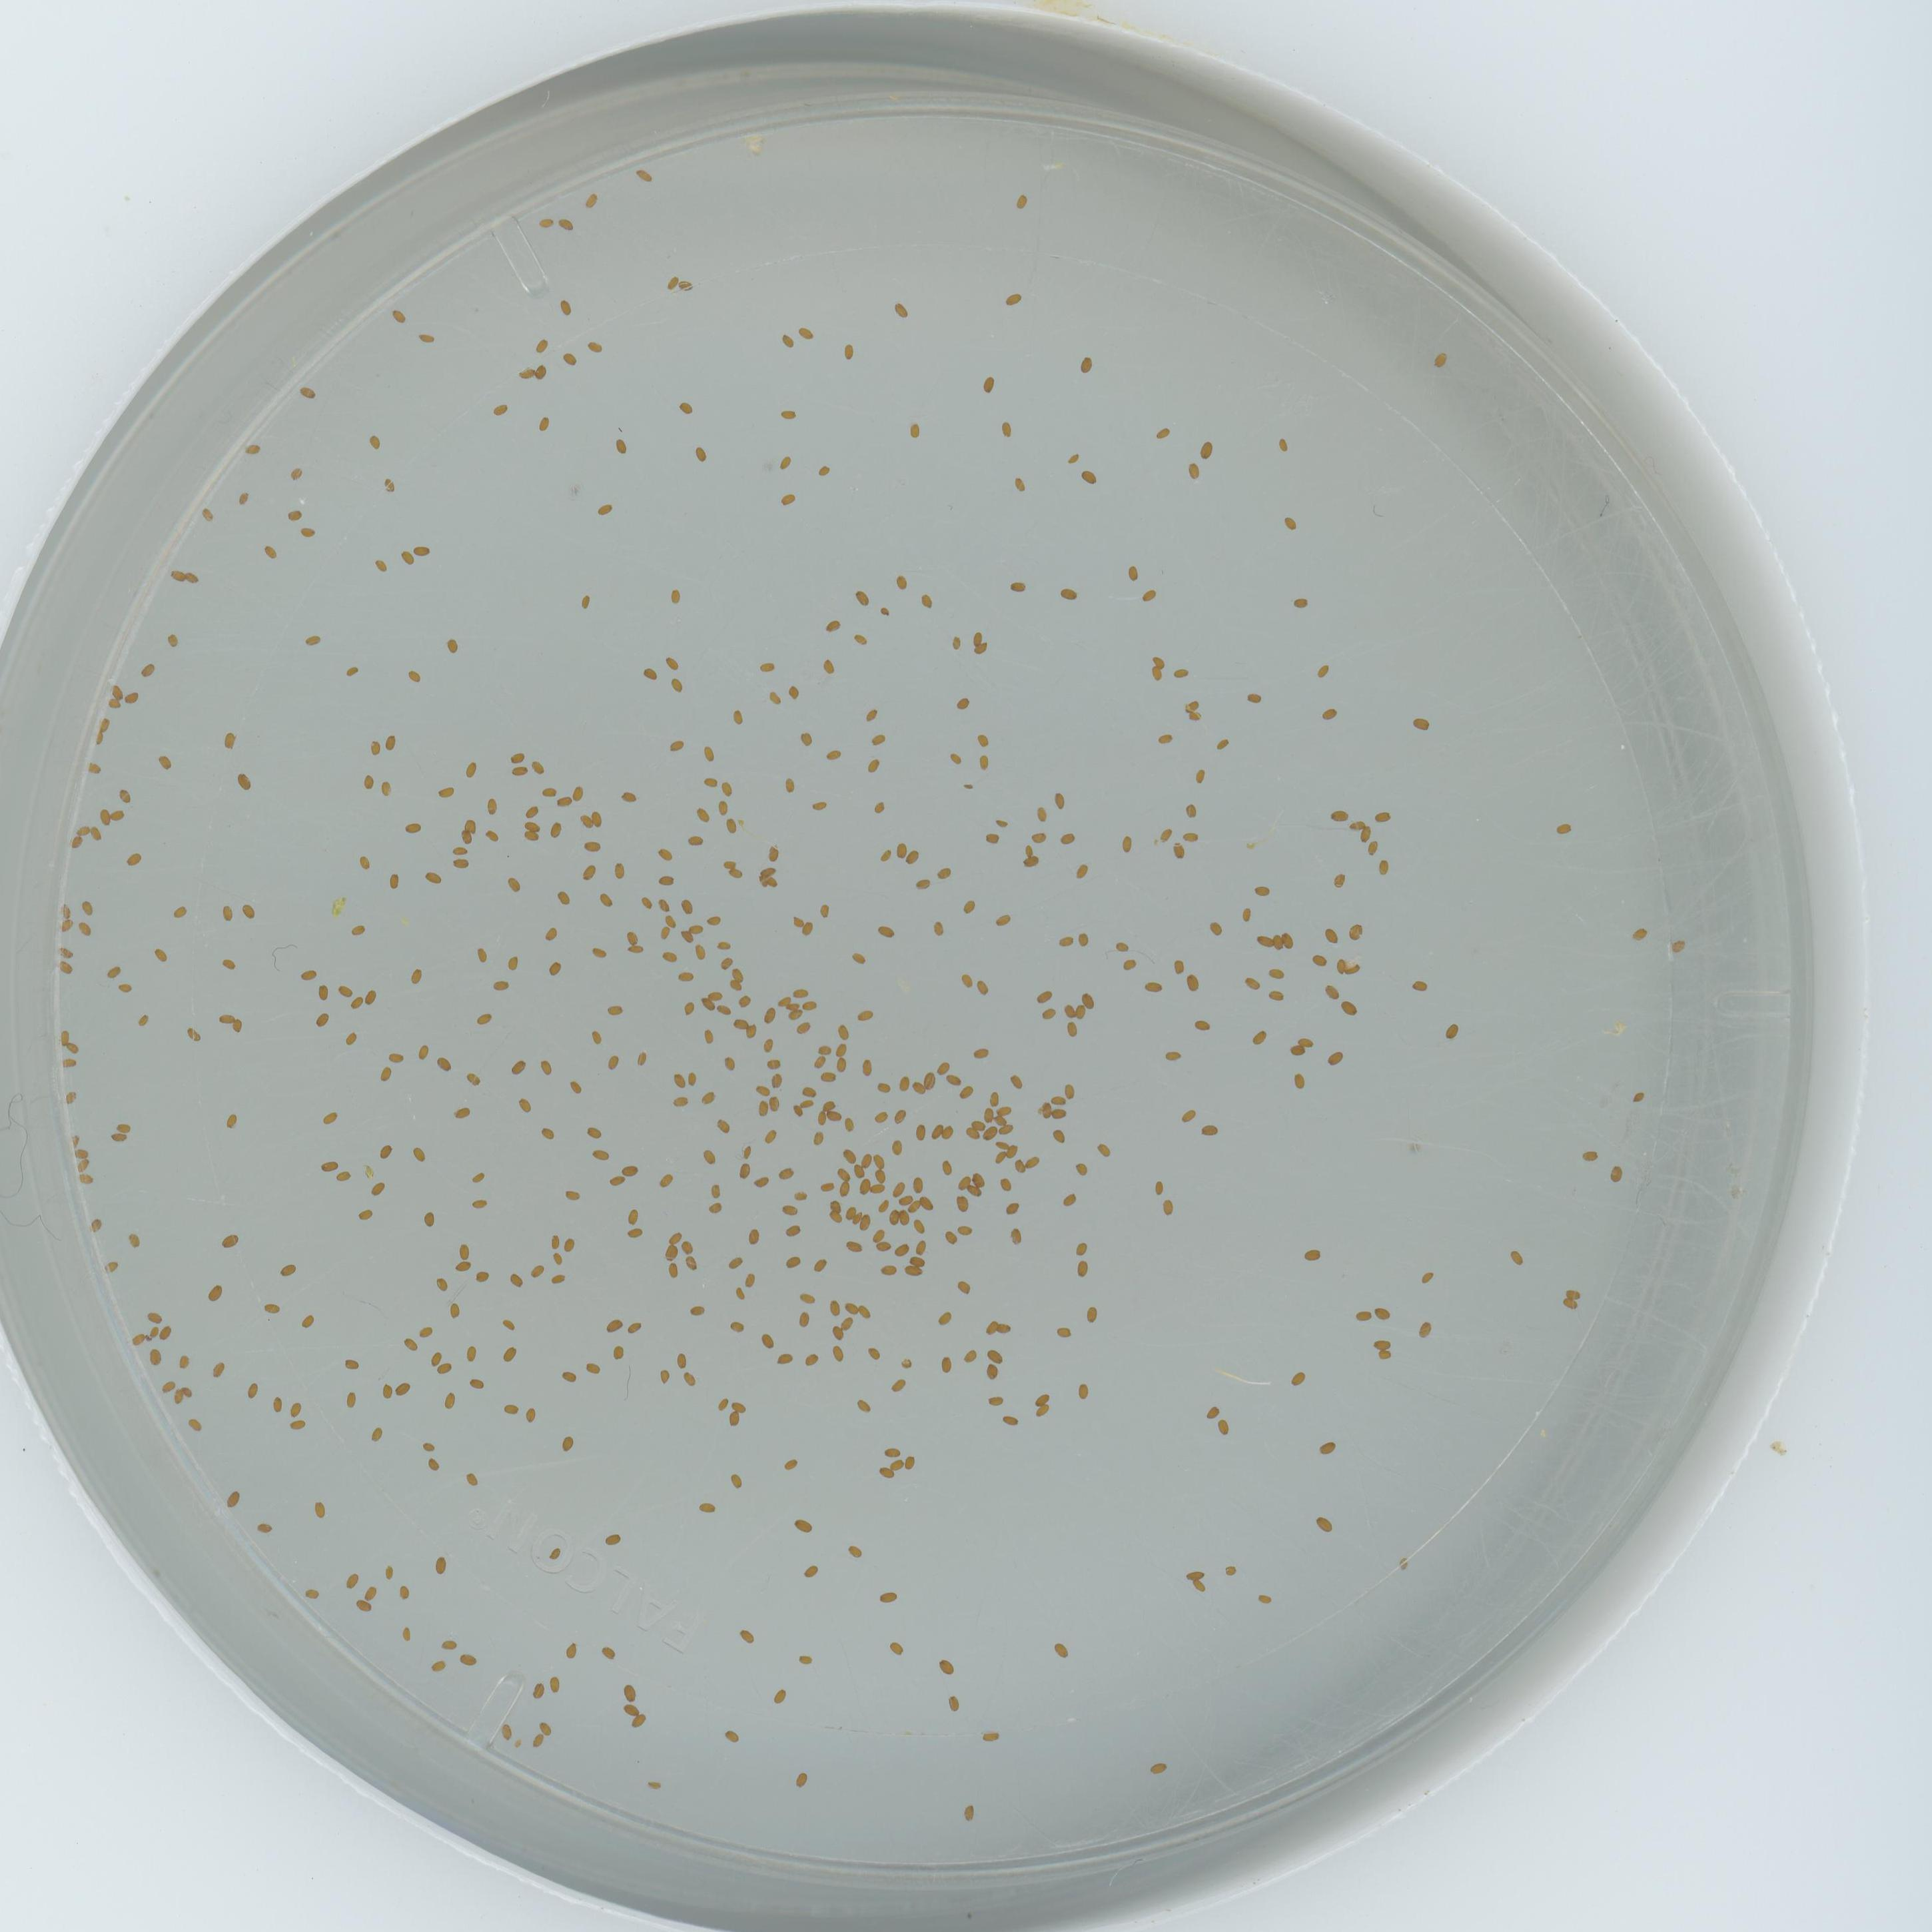seed: (1056, 584, 1081, 605), (888, 1136, 908, 1161), (234, 770, 253, 791), (1159, 1198, 1178, 1219), (957, 1348, 980, 1366), (1012, 191, 1031, 211), (1054, 1322, 1074, 1341), (1145, 978, 1166, 996), (481, 798, 501, 816), (501, 1345, 520, 1362), (435, 1053, 453, 1072), (662, 1244, 679, 1263), (605, 1315, 625, 1332), (890, 1180, 909, 1198), (262, 1299, 281, 1316), (936, 1658, 955, 1675), (826, 1299, 844, 1318), (955, 1279, 973, 1299), (952, 1194, 970, 1214), (1320, 927, 1339, 945), (1051, 1640, 1069, 1660), (1325, 1047, 1345, 1065), (1171, 955, 1189, 975), (1394, 1555, 1414, 1573), (1346, 924, 1366, 941), (504, 952, 520, 973), (858, 1056, 874, 1077), (1180, 828, 1201, 844), (1346, 817, 1368, 833), (1332, 955, 1348, 977), (906, 421, 922, 442), (678, 897, 695, 915), (934, 865, 952, 883), (437, 784, 455, 801), (656, 895, 674, 913), (724, 817, 741, 835), (538, 212, 556, 230), (524, 803, 541, 821), (556, 890, 573, 908), (395, 1378, 412, 1396), (892, 1106, 909, 1123), (492, 975, 510, 993), (458, 1651, 476, 1668), (375, 1141, 393, 1159), (621, 1159, 639, 1177), (219, 1230, 237, 1247), (145, 1346, 163, 1364), (830, 1345, 847, 1362), (741, 1270, 759, 1288), (341, 1391, 359, 1408), (547, 959, 564, 977), (715, 1116, 732, 1134), (938, 1355, 955, 1373), (699, 1497, 717, 1514), (747, 1226, 764, 1244), (432, 1557, 449, 1575), (368, 1178, 386, 1196), (621, 1684, 639, 1702), (826, 1196, 844, 1214), (145, 1306, 163, 1323), (559, 1435, 577, 1453), (911, 1125, 929, 1143), (722, 1053, 740, 1070), (957, 1221, 975, 1238), (1072, 863, 1090, 881), (1169, 842, 1187, 860), (1030, 828, 1047, 846), (1184, 462, 1201, 479), (980, 375, 998, 393), (1196, 441, 1214, 458), (1279, 931, 1297, 948), (1412, 713, 1430, 731), (1116, 837, 1134, 855), (1003, 288, 1021, 306), (1318, 1438, 1336, 1456), (1339, 998, 1357, 1016), (1302, 1244, 1320, 1261), (1315, 1514, 1332, 1532), (985, 1345, 1003, 1362), (964, 1123, 982, 1141), (955, 1175, 973, 1192), (1670, 938, 1688, 955), (1150, 1759, 1168, 1776), (897, 1353, 915, 1371), (464, 1070, 481, 1088), (582, 863, 598, 883), (545, 823, 564, 839), (639, 895, 658, 911), (582, 839, 602, 855), (219, 955, 239, 971), (416, 1042, 432, 1062), (462, 1345, 478, 1364), (893, 1240, 913, 1256), (794, 1516, 814, 1532), (278, 1260, 297, 1276), (810, 1053, 830, 1069), (1330, 807, 1350, 823), (1079, 467, 1099, 483), (1322, 984, 1341, 1000), (1063, 1019, 1079, 1039), (1184, 973, 1200, 993), (1417, 1320, 1433, 1339), (1330, 874, 1350, 890), (980, 1727, 1000, 1743), (1063, 451, 1083, 467), (271, 1394, 285, 1415), (138, 662, 156, 678), (623, 929, 640, 945), (658, 874, 676, 890), (867, 759, 885, 775), (529, 759, 547, 775), (382, 734, 400, 750), (366, 433, 384, 449), (893, 575, 911, 591), (389, 306, 407, 322), (218, 904, 235, 920), (855, 591, 872, 607), (702, 775, 720, 791), (706, 911, 724, 927), (695, 807, 713, 823), (412, 541, 430, 557), (124, 851, 142, 867), (418, 329, 435, 345), (824, 617, 842, 633), (511, 764, 529, 780), (219, 732, 237, 748), (557, 299, 575, 315), (237, 902, 255, 918), (701, 747, 718, 763), (170, 904, 188, 920), (612, 437, 628, 455), (780, 777, 798, 793), (557, 216, 575, 232), (872, 798, 890, 814), (610, 863, 628, 879), (656, 846, 674, 862), (444, 637, 460, 655), (543, 925, 561, 941), (842, 343, 860, 359), (915, 876, 932, 892), (356, 855, 372, 872), (287, 506, 304, 522), (78, 899, 94, 916), (163, 632, 180, 648), (798, 324, 816, 340), (817, 901, 833, 918), (359, 775, 377, 791), (598, 893, 616, 909), (718, 782, 736, 798), (812, 798, 830, 814), (954, 695, 971, 711), (853, 632, 870, 648), (663, 915, 681, 931), (798, 731, 816, 747), (718, 955, 736, 971), (96, 809, 111, 826), (458, 830, 474, 847), (582, 193, 600, 209), (313, 1010, 331, 1026), (315, 984, 333, 1000), (587, 1028, 605, 1044), (529, 1261, 547, 1277), (881, 1261, 899, 1277), (803, 1562, 821, 1578), (761, 1005, 778, 1021), (837, 1023, 855, 1039), (320, 1155, 338, 1171), (945, 1695, 961, 1713), (672, 1090, 690, 1106), (502, 1401, 520, 1417), (548, 1270, 566, 1286), (205, 1284, 223, 1300), (386, 1046, 403, 1062), (786, 1253, 803, 1269), (584, 1359, 602, 1375), (288, 1417, 306, 1433), (888, 1638, 906, 1654), (878, 1465, 895, 1481), (846, 1238, 863, 1254), (778, 1164, 796, 1180), (761, 1330, 777, 1348), (354, 1598, 372, 1614), (936, 1309, 954, 1325), (874, 1198, 892, 1214), (510, 1060, 527, 1076), (605, 1530, 623, 1546), (311, 1500, 327, 1518), (209, 1361, 226, 1376), (794, 1769, 810, 1787), (856, 1396, 874, 1412), (761, 1035, 777, 1053), (803, 1350, 821, 1366), (847, 1541, 863, 1559), (626, 1224, 644, 1240), (322, 1108, 340, 1123), (922, 1072, 938, 1090), (658, 1171, 676, 1187), (801, 1081, 819, 1097), (375, 1065, 393, 1081), (786, 1223, 803, 1238), (699, 1090, 717, 1106), (379, 1564, 396, 1580), (441, 1392, 458, 1408), (777, 1348, 794, 1364), (287, 1401, 304, 1417), (793, 1185, 810, 1201), (563, 1644, 580, 1660), (881, 1589, 899, 1605), (754, 1081, 771, 1097), (455, 1242, 472, 1258), (548, 1675, 564, 1693), (913, 1240, 931, 1256), (186, 1415, 202, 1433), (736, 993, 754, 1008), (800, 1288, 817, 1304), (701, 1028, 718, 1044), (531, 1683, 548, 1698), (826, 1108, 844, 1123), (441, 1637, 458, 1652), (858, 1304, 876, 1320), (929, 1122, 945, 1139), (173, 1353, 191, 1369), (828, 1208, 846, 1224), (844, 1299, 862, 1315), (1373, 809, 1391, 824), (1008, 577, 1026, 593), (1311, 948, 1329, 964), (1031, 807, 1049, 823), (1375, 860, 1392, 876), (1049, 793, 1065, 810), (1555, 821, 1573, 837), (1274, 437, 1292, 453), (1076, 356, 1093, 372), (1171, 665, 1189, 681), (1238, 906, 1254, 924), (1152, 425, 1169, 441), (1111, 938, 1129, 954), (1182, 801, 1200, 817), (961, 899, 978, 915), (993, 911, 1010, 927), (1146, 667, 1164, 683), (973, 640, 991, 656), (982, 1364, 1000, 1380), (1074, 1382, 1090, 1399), (1373, 1334, 1391, 1350), (1007, 1074, 1024, 1090), (1083, 1306, 1100, 1322), (1001, 1412, 1019, 1428), (1507, 1249, 1525, 1265), (1267, 966, 1284, 982), (1035, 987, 1053, 1003), (1373, 1304, 1391, 1320), (1072, 1003, 1088, 1021), (1070, 1240, 1088, 1256), (1251, 1026, 1269, 1042), (1093, 1139, 1111, 1155), (1290, 1369, 1306, 1387), (996, 1175, 1014, 1191), (1214, 1419, 1231, 1435), (1074, 1260, 1090, 1277), (1200, 1120, 1217, 1136), (1608, 1164, 1624, 1182), (1290, 1070, 1307, 1086), (1444, 1021, 1461, 1037), (1162, 1046, 1180, 1062), (1060, 1189, 1077, 1205), (1060, 1001, 1076, 1019), (1431, 352, 1449, 368), (1008, 1228, 1024, 1246), (1012, 478, 1030, 494), (644, 1778, 662, 1794), (497, 1725, 515, 1741), (55, 918, 73, 934), (69, 835, 87, 851), (87, 761, 104, 777), (106, 685, 124, 701), (770, 1070, 784, 1090), (886, 1208, 901, 1228), (904, 1265, 924, 1279), (1253, 932, 1272, 947), (1039, 1100, 1053, 1120), (506, 878, 522, 893), (851, 948, 867, 964), (570, 786, 586, 801), (124, 688, 140, 704), (492, 400, 508, 416), (872, 731, 888, 747), (299, 524, 315, 540), (663, 655, 679, 671), (262, 543, 278, 559), (577, 594, 593, 610), (948, 635, 964, 651), (405, 821, 421, 837), (304, 632, 320, 648), (768, 690, 784, 706), (669, 738, 685, 754), (536, 414, 552, 430), (715, 801, 731, 817), (931, 920, 947, 936), (534, 364, 550, 380), (364, 740, 380, 755), (662, 948, 678, 964), (425, 870, 441, 886), (398, 550, 414, 566), (170, 568, 186, 584), (667, 589, 683, 605), (386, 874, 402, 890), (541, 784, 557, 800), (510, 748, 525, 764), (156, 754, 172, 770), (379, 780, 395, 796), (918, 591, 934, 607), (879, 922, 895, 938), (893, 303, 909, 318), (76, 920, 92, 936), (694, 446, 709, 462), (474, 947, 490, 962), (586, 338, 602, 354), (780, 333, 796, 349), (671, 676, 686, 692), (761, 658, 777, 674), (299, 382, 315, 398), (817, 462, 833, 478), (821, 660, 837, 676), (244, 441, 260, 456), (577, 814, 593, 830), (589, 812, 605, 828), (906, 851, 922, 867), (462, 817, 478, 833), (453, 856, 469, 872), (152, 947, 168, 962), (729, 867, 745, 883), (947, 1070, 962, 1086), (345, 1573, 361, 1589), (524, 1407, 540, 1422), (407, 968, 423, 984), (430, 1658, 446, 1674), (892, 1376, 908, 1392), (363, 989, 379, 1005), (796, 1019, 812, 1035), (244, 1382, 260, 1398), (343, 1355, 359, 1371), (867, 1345, 883, 1361), (410, 1145, 426, 1161), (936, 1060, 952, 1076), (667, 1228, 683, 1244), (437, 1361, 453, 1376), (476, 1010, 492, 1026), (257, 1518, 272, 1534), (421, 1210, 437, 1226), (771, 1688, 787, 1704), (858, 1214, 874, 1230), (920, 1196, 936, 1212), (702, 1146, 718, 1162), (766, 1054, 782, 1070), (610, 1345, 626, 1361), (299, 1315, 315, 1330), (508, 1270, 524, 1286), (586, 1123, 602, 1139), (724, 1727, 740, 1743), (456, 1258, 472, 1274), (683, 1371, 699, 1387), (364, 1585, 380, 1601), (679, 1238, 695, 1254), (349, 994, 364, 1010), (435, 1276, 451, 1292), (708, 1200, 724, 1215), (768, 1095, 784, 1111), (895, 1076, 911, 1092), (402, 1336, 418, 1352), (782, 1201, 798, 1217), (545, 1233, 561, 1249), (568, 1077, 584, 1093), (517, 1097, 533, 1113), (379, 1384, 395, 1399), (674, 1352, 690, 1368), (715, 1394, 731, 1410), (602, 1644, 617, 1660), (633, 1051, 649, 1067), (540, 1125, 556, 1141), (658, 1368, 674, 1384), (842, 1146, 858, 1162), (455, 1102, 471, 1118), (738, 1162, 754, 1178), (858, 1007, 874, 1023), (821, 1177, 837, 1192), (731, 1398, 747, 1414), (564, 1185, 580, 1201), (740, 1628, 755, 1644), (423, 1456, 439, 1472), (531, 1734, 547, 1750), (796, 1311, 812, 1327), (561, 1368, 577, 1384), (837, 1180, 853, 1196), (745, 1023, 761, 1039), (471, 1168, 487, 1184), (817, 1039, 833, 1054), (729, 1472, 745, 1488), (872, 1152, 888, 1168), (464, 1470, 479, 1486), (812, 1129, 828, 1145), (538, 1720, 554, 1736), (127, 1233, 143, 1249), (899, 1210, 915, 1226), (607, 1001, 623, 1017), (145, 1322, 161, 1338), (225, 1491, 241, 1507), (941, 1125, 957, 1141), (170, 1389, 186, 1405), (184, 1024, 200, 1040), (798, 1651, 814, 1667), (115, 1116, 131, 1132), (60, 1053, 76, 1069), (1125, 564, 1141, 580), (993, 816, 1008, 832), (984, 830, 1000, 846), (1207, 920, 1223, 936), (1246, 690, 1261, 706), (1074, 931, 1090, 947), (1322, 704, 1338, 720), (1357, 828, 1373, 844), (975, 731, 991, 747), (1157, 826, 1173, 842), (1292, 594, 1307, 610), (1150, 653, 1166, 669), (1212, 736, 1228, 752), (1253, 883, 1269, 899), (1281, 515, 1297, 531), (1120, 957, 1136, 973), (1633, 925, 1649, 941), (1355, 1306, 1371, 1322), (1024, 1152, 1040, 1168), (987, 1392, 1003, 1408), (1203, 1403, 1219, 1419), (1049, 1127, 1065, 1143), (1040, 1003, 1056, 1019), (1005, 1200, 1021, 1215), (1244, 975, 1260, 991), (1150, 1180, 1166, 1196), (1180, 1106, 1196, 1122), (1062, 1081, 1077, 1097), (1582, 1145, 1598, 1161), (985, 1090, 1001, 1106), (971, 1171, 987, 1187), (982, 1318, 998, 1334), (1566, 1286, 1582, 1302), (1629, 1090, 1645, 1106), (1346, 961, 1362, 977), (878, 605, 893, 621), (518, 366, 534, 382), (678, 278, 694, 294), (637, 166, 653, 182), (103, 1258, 119, 1274), (87, 1217, 103, 1233), (78, 1171, 94, 1187), (74, 1157, 90, 1173), (65, 1134, 81, 1150), (62, 1090, 78, 1106), (115, 789, 131, 805), (90, 731, 106, 747), (97, 717, 113, 732), (106, 697, 122, 713), (186, 571, 202, 587), (288, 467, 304, 483), (380, 478, 396, 494), (826, 747, 844, 761), (780, 407, 798, 421), (524, 819, 541, 833), (688, 922, 706, 936), (764, 876, 782, 890), (717, 1001, 734, 1016), (303, 1585, 320, 1599), (368, 1426, 386, 1440), (835, 1056, 849, 1074), (625, 1208, 642, 1223), (110, 1129, 127, 1143), (341, 1030, 359, 1044), (446, 1302, 464, 1316), (395, 1585, 412, 1599), (356, 1207, 373, 1221), (472, 1269, 490, 1283), (755, 1099, 770, 1116), (467, 1376, 485, 1391), (301, 970, 318, 984), (876, 1238, 893, 1253), (428, 1350, 442, 1368), (869, 1228, 886, 1242), (609, 1173, 626, 1187), (396, 1626, 414, 1640), (858, 1178, 872, 1196), (418, 1323, 435, 1338), (801, 998, 819, 1012), (821, 1095, 839, 1109), (57, 961, 74, 975), (1139, 587, 1157, 602), (982, 1125, 1000, 1139), (971, 1044, 989, 1058), (1072, 1161, 1090, 1175), (1288, 1042, 1306, 1056), (1297, 1035, 1315, 1049), (732, 1286, 747, 1304), (663, 274, 678, 292), (58, 1030, 73, 1047), (57, 945, 74, 959), (55, 904, 73, 918), (957, 1086, 977, 1099), (1185, 1568, 1205, 1580), (534, 338, 550, 352), (464, 763, 479, 777), (561, 350, 577, 364), (893, 842, 908, 858), (688, 833, 704, 847), (373, 557, 389, 571), (865, 708, 881, 722), (678, 400, 694, 414), (557, 796, 573, 810), (407, 669, 423, 683), (780, 492, 796, 506), (345, 663, 361, 678), (198, 508, 214, 522), (766, 847, 782, 862), (731, 709, 747, 724), (235, 490, 251, 504), (678, 929, 694, 943), (623, 789, 639, 803), (598, 501, 614, 515), (644, 667, 660, 681), (591, 945, 607, 959), (718, 938, 734, 952), (777, 455, 793, 469), (483, 830, 499, 844), (801, 920, 817, 934), (787, 685, 803, 699), (878, 849, 893, 863), (350, 924, 366, 938), (451, 842, 467, 856), (724, 855, 738, 870), (692, 945, 708, 959), (791, 915, 807, 929), (159, 1378, 175, 1392), (878, 1079, 893, 1093), (626, 1320, 642, 1334), (593, 1146, 609, 1161), (821, 1069, 837, 1083), (874, 1108, 890, 1122), (943, 1230, 959, 1244), (683, 1000, 697, 1016), (623, 1702, 639, 1716), (336, 982, 352, 996), (665, 1263, 681, 1277), (501, 1316, 517, 1330), (793, 985, 809, 1000), (939, 1159, 954, 1175), (913, 1219, 929, 1233), (547, 1545, 561, 1560), (538, 1060, 554, 1074), (835, 1040, 851, 1054), (729, 1318, 745, 1332), (104, 966, 120, 980), (909, 1178, 925, 1192), (605, 1054, 621, 1069), (471, 1194, 487, 1208), (755, 1173, 771, 1187), (851, 1162, 865, 1178), (708, 985, 724, 1000), (885, 1444, 901, 1458), (678, 970, 694, 984), (904, 1454, 918, 1470), (690, 1302, 706, 1316), (708, 1184, 724, 1198), (699, 996, 715, 1010), (230, 1016, 244, 1031), (563, 1237, 579, 1251), (336, 1168, 352, 1182), (729, 1254, 745, 1269), (421, 1438, 435, 1454), (832, 1325, 846, 1341), (219, 1008, 234, 1024), (812, 1258, 828, 1272), (782, 1456, 798, 1470), (725, 1412, 741, 1426), (732, 1014, 748, 1028), (672, 1074, 688, 1088), (888, 1456, 904, 1470), (117, 980, 133, 994), (911, 1081, 927, 1095), (225, 1113, 239, 1129), (842, 1316, 858, 1330), (763, 1129, 778, 1143), (686, 1069, 701, 1085), (842, 1116, 858, 1131), (683, 1254, 699, 1269), (814, 1109, 828, 1125), (131, 1330, 145, 1346), (179, 1384, 195, 1398), (740, 1145, 755, 1159), (134, 1012, 149, 1028), (731, 968, 747, 982), (73, 1145, 88, 1159), (998, 421, 1014, 435), (977, 754, 991, 770), (1058, 832, 1074, 846), (1364, 840, 1380, 855), (1192, 770, 1208, 784), (1157, 731, 1173, 745), (1315, 663, 1330, 678), (1056, 932, 1072, 947), (970, 630, 984, 646), (1033, 1392, 1049, 1407), (1049, 1092, 1065, 1106), (1192, 1017, 1208, 1031), (998, 1122, 1014, 1136), (991, 1150, 1007, 1164), (993, 1136, 1008, 1150), (1412, 978, 1428, 993), (1033, 1405, 1049, 1419), (1049, 1106, 1065, 1120), (1010, 1157, 1024, 1173), (1256, 1591, 1272, 1605), (980, 1108, 996, 1122), (1419, 1269, 1435, 1283), (996, 1320, 1012, 1334), (1562, 1299, 1578, 1313), (1270, 934, 1284, 950), (1223, 1564, 1238, 1578), (1185, 699, 1201, 713), (1187, 711, 1203, 725), (835, 1166, 851, 1180), (761, 865, 778, 878), (994, 1100, 1012, 1113), (962, 1805, 975, 1822), (966, 1185, 984, 1198), (909, 1256, 929, 1267), (658, 925, 672, 939), (111, 809, 126, 823), (948, 752, 962, 766), (76, 823, 90, 837), (88, 828, 103, 842), (550, 1251, 564, 1265), (874, 1168, 888, 1182), (789, 1008, 803, 1023), (159, 1323, 173, 1338), (860, 1154, 874, 1168), (844, 1205, 858, 1219), (870, 1182, 885, 1196), (64, 1040, 78, 1054), (1269, 987, 1283, 1001), (975, 980, 989, 994), (1081, 993, 1095, 1007), (849, 1212, 863, 1226), (628, 943, 644, 955), (632, 1714, 648, 1727), (800, 1097, 816, 1109), (780, 994, 796, 1007), (899, 1192, 915, 1205), (1023, 856, 1039, 869), (1191, 1580, 1207, 1592), (1376, 1348, 1392, 1361), (961, 975, 973, 991), (908, 1201, 922, 1214), (791, 1104, 805, 1116), (1021, 844, 1035, 856), (1008, 1143, 1021, 1157), (754, 876, 768, 888), (524, 832, 540, 842), (991, 1115, 1007, 1125), (786, 1001, 801, 1012), (971, 1120, 985, 1131)
